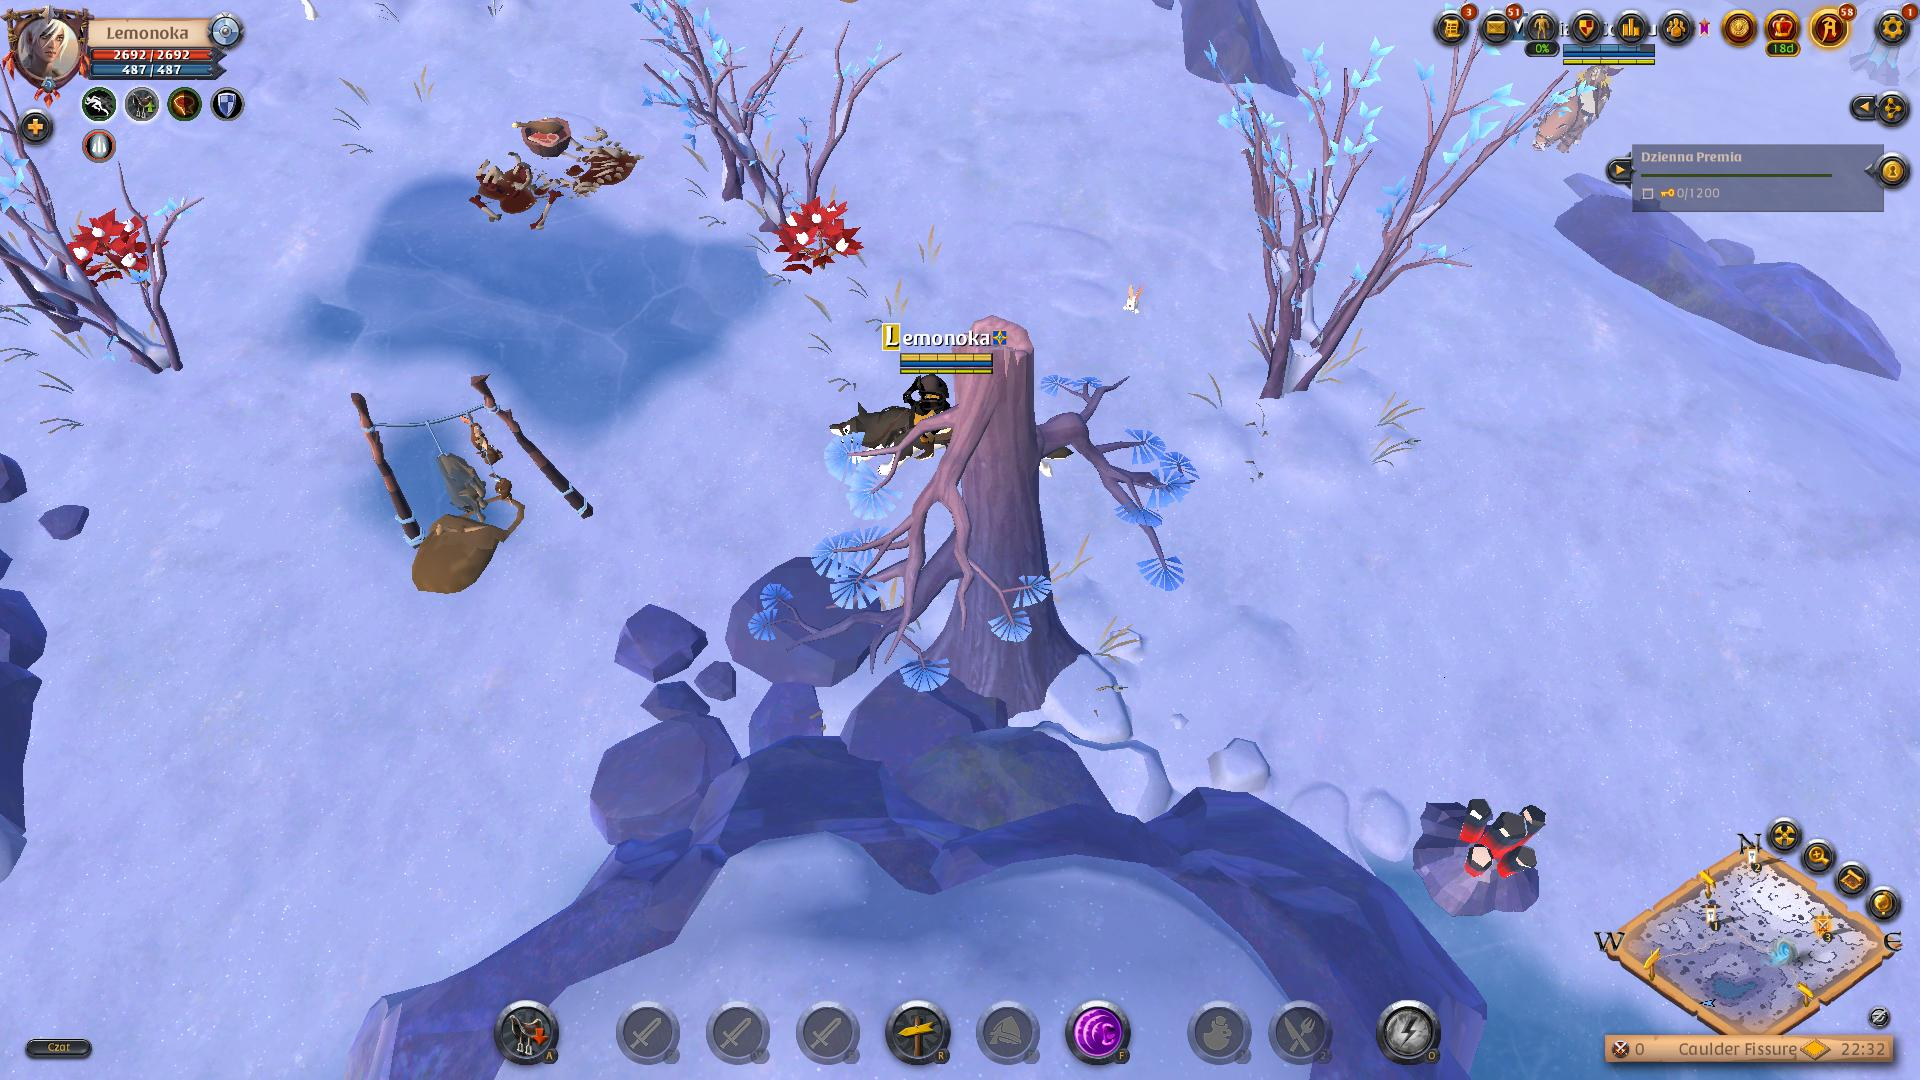fiber tier 5: (773, 191, 865, 284), (59, 208, 160, 289)
ore tier 5: (1415, 791, 1547, 923)
